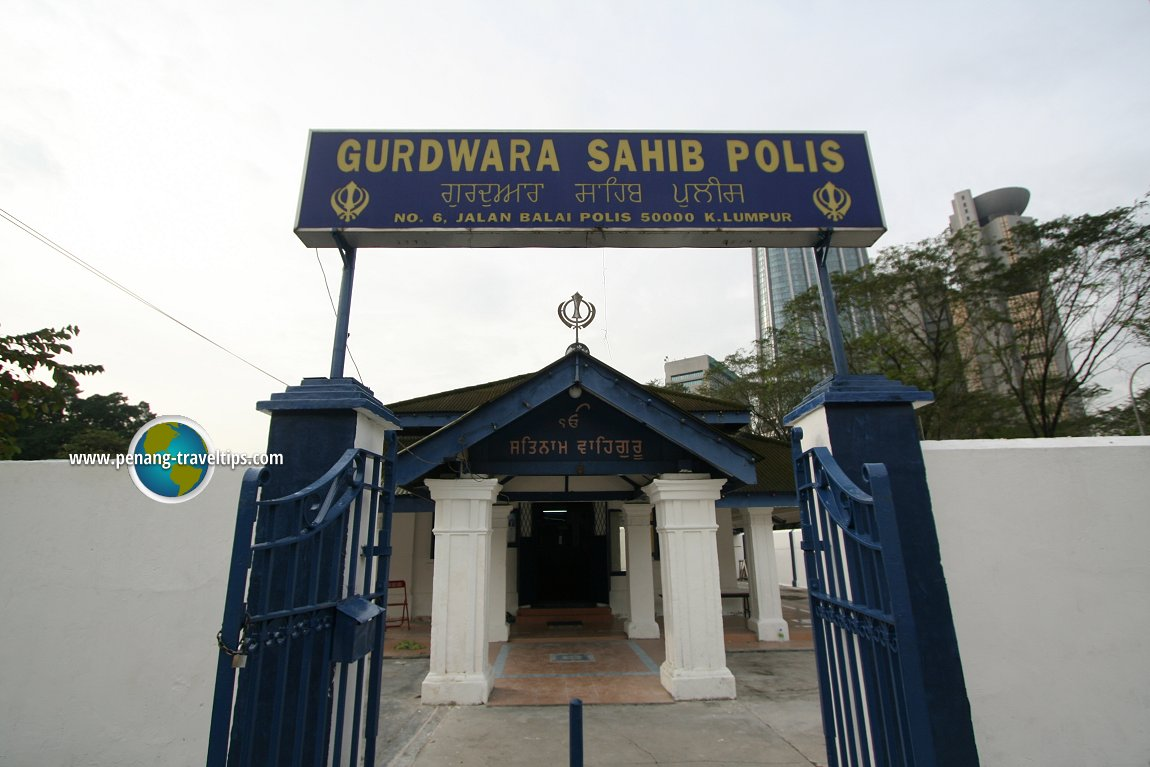Gurdwara: (213, 101, 849, 680)
